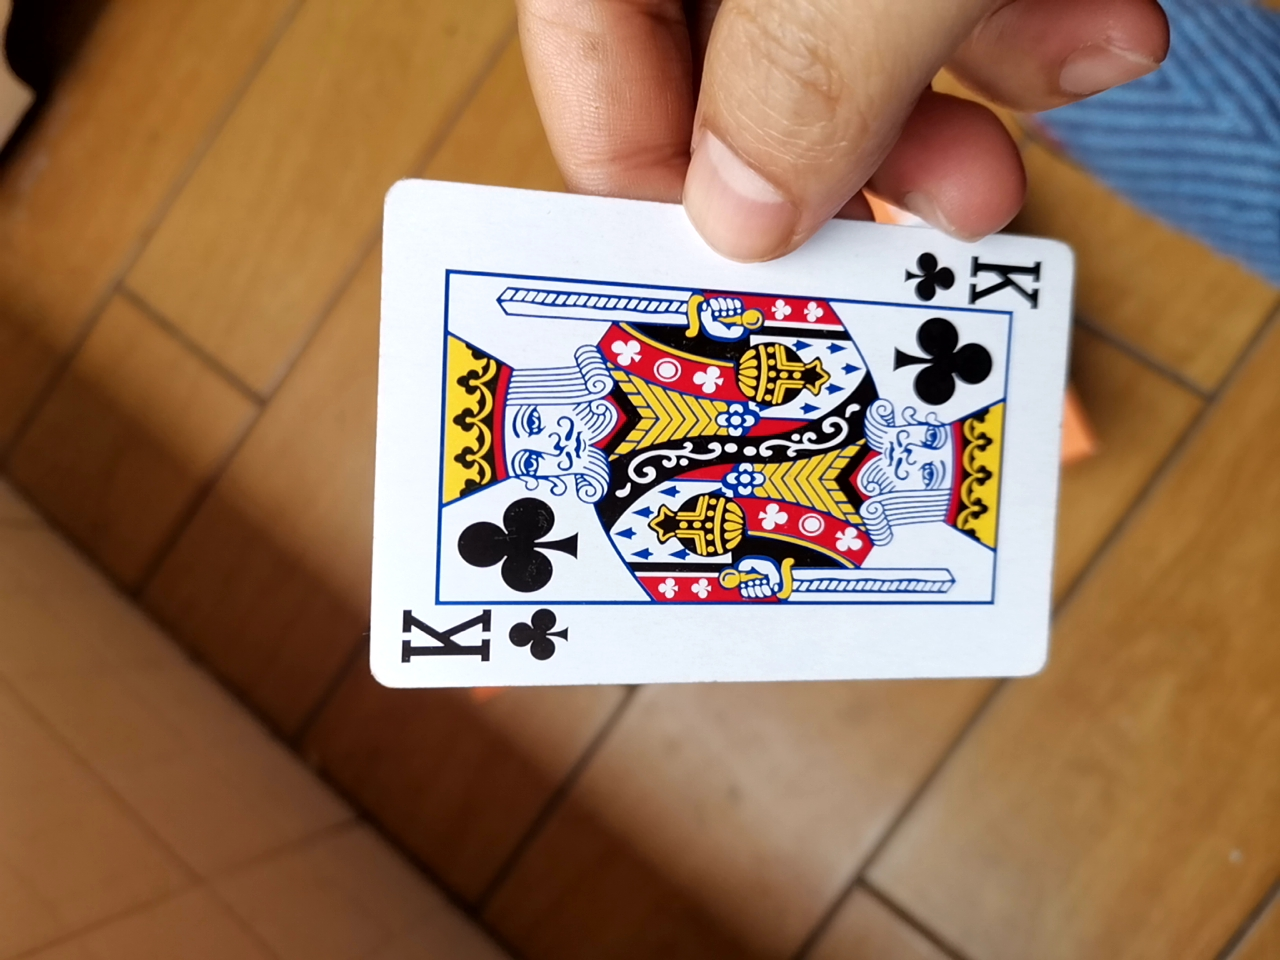mh k: (342, 187, 1066, 696)
